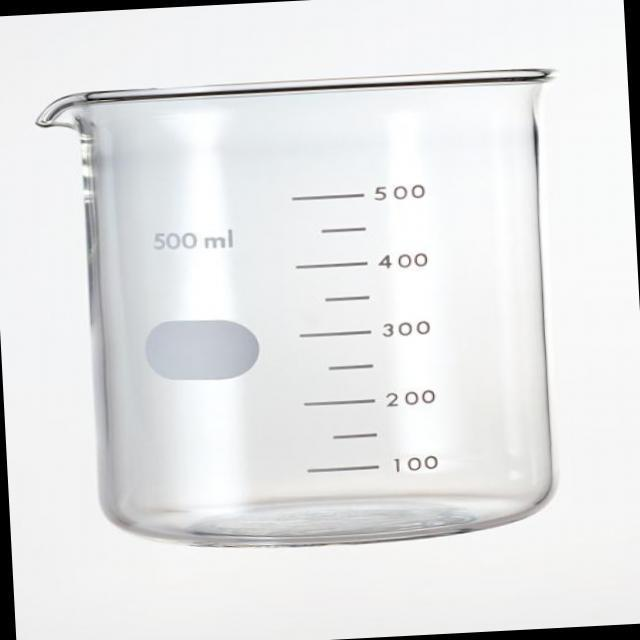Beaker: (29, 63, 581, 547)
